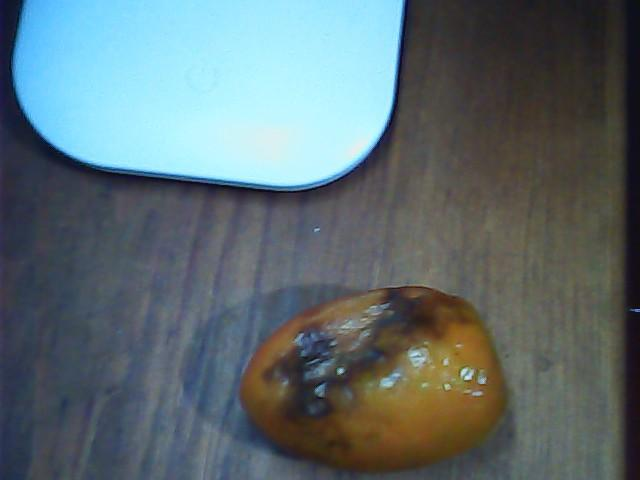defectuoso: (244, 287, 503, 466)
